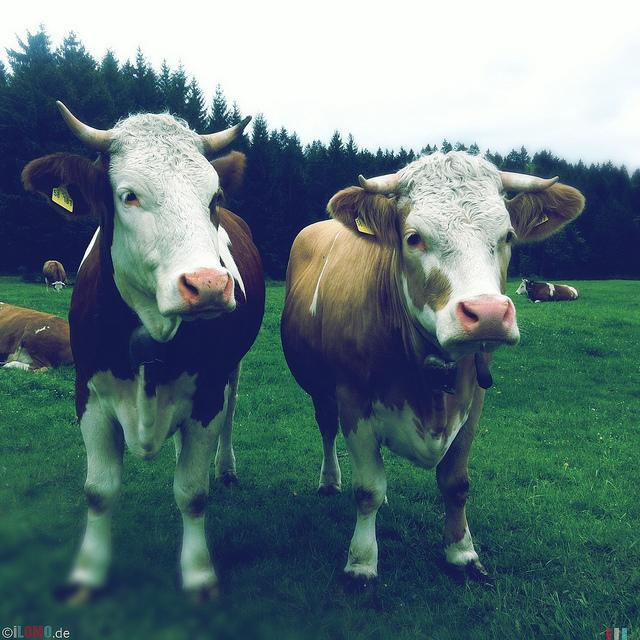cow: (283, 146, 582, 582), (19, 89, 267, 603), (0, 301, 69, 371), (513, 277, 578, 301), (42, 258, 65, 291)
